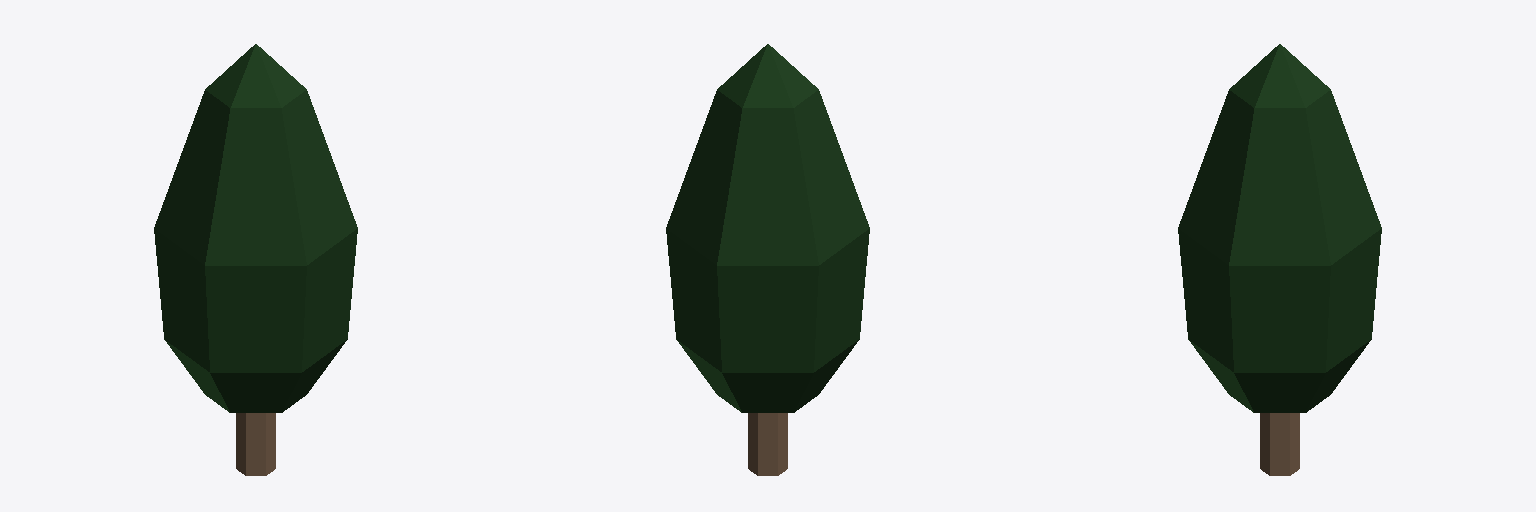
File: Hilly_Prop_Tree_Cedar_1.obj
3 renders of one model, left to right at view 1: azimuth 30°, elevation 25°; view 2: azimuth 150°, elevation 25°; view 3: azimuth 270°, elevation 25°, orthographic.
Parts seen in each view (by area): view 1: object2, object1; view 2: object2, object1; view 3: object2, object1.
Part boxes in pixels (x1,y1,x2,y2): object2: (154,44,357,412); object1: (236,413,275,475); object2: (666,44,869,412); object1: (748,413,787,475); object2: (1178,44,1381,412); object1: (1260,413,1299,475).
Bounding box in the file's own units: 0.866 × 2.3 × 1.